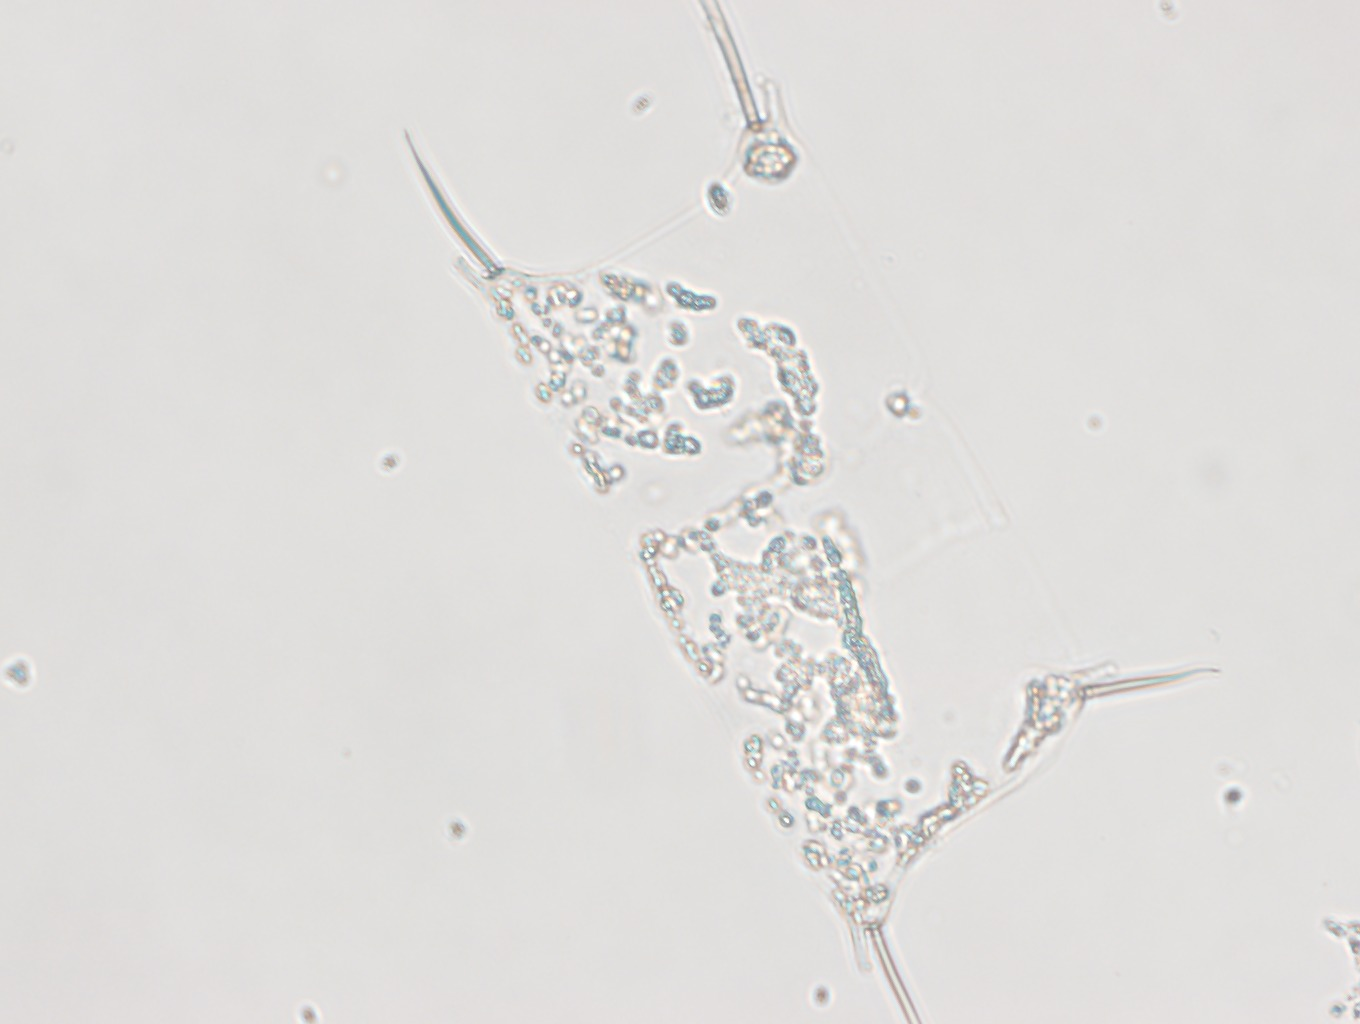biddulphia: (404, 1, 1222, 1024)
